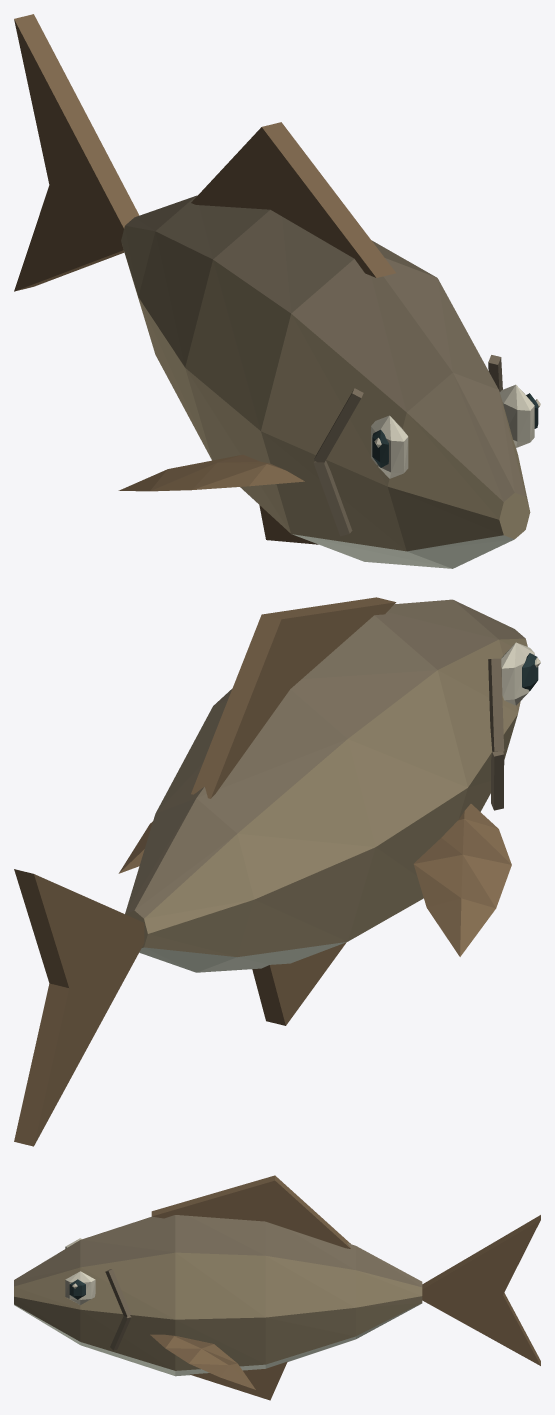
Rendered from fish_brownfin.glb.
3 views of the same model, one above another, from view 1: azimuth 30°, elevation 25°; view 2: azimuth 150°, elevation 25°; view 3: azimuth 270°, elevation 25° (orthographic). The views are drawn at different scales.
Visible parts, largest first — view 1: fish; view 2: fish; view 3: fish.
Boxes of the visible parts, x1,y1,x2,y2 form: fish: [14, 14, 540, 568]; fish: [14, 597, 540, 1146]; fish: [14, 1175, 540, 1400].
Bounding box in the file's own units: 0.2442 × 0.2761 × 0.5994.
